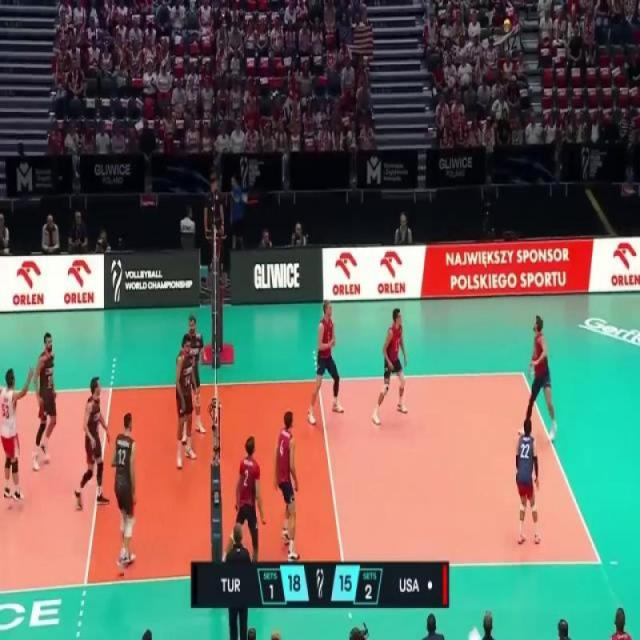volleyball: (502, 16, 512, 36)
